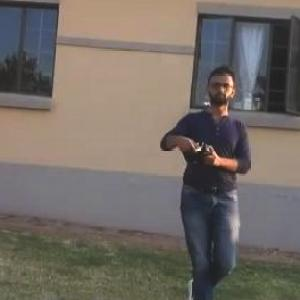follow: (158, 56, 260, 299)
